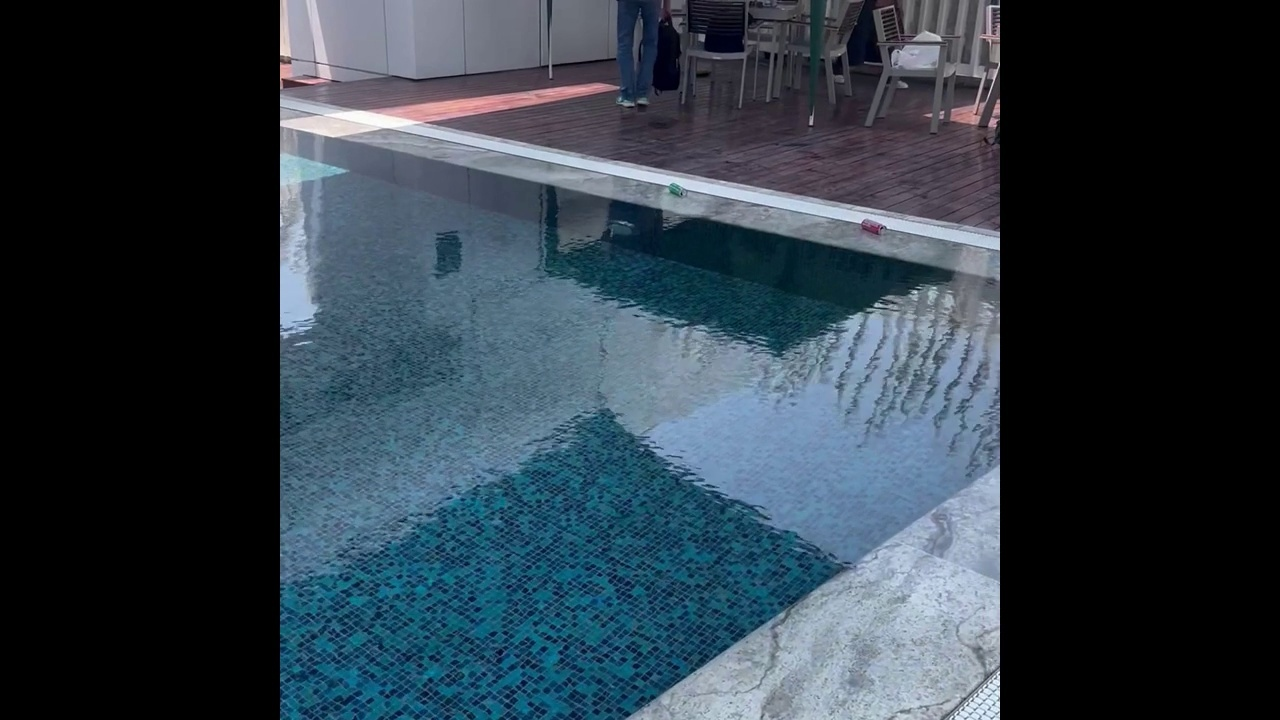debris: (859, 216, 888, 239), (665, 179, 688, 199)
